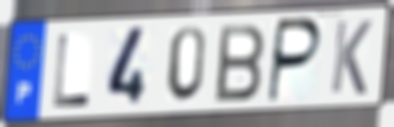0: (163, 25, 207, 106)
4: (103, 23, 153, 112)
B: (214, 21, 268, 105)
K: (328, 18, 375, 98)
L: (51, 32, 93, 111)
P: (265, 15, 325, 106)
